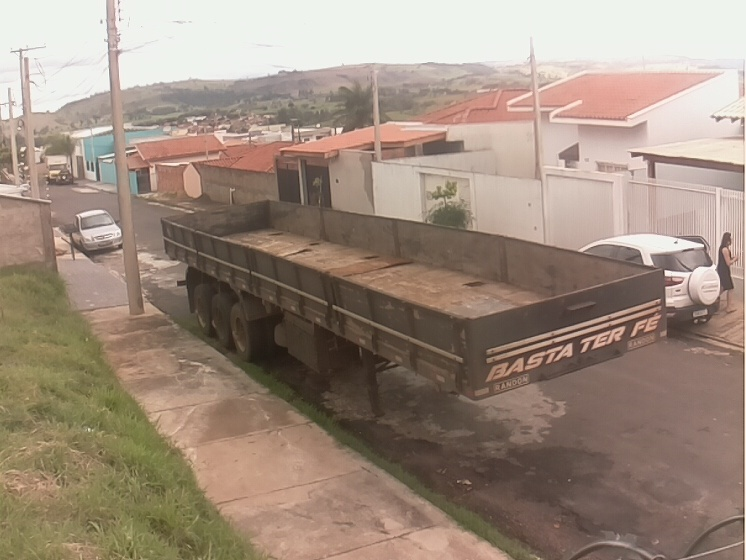person: (715, 230, 740, 321)
